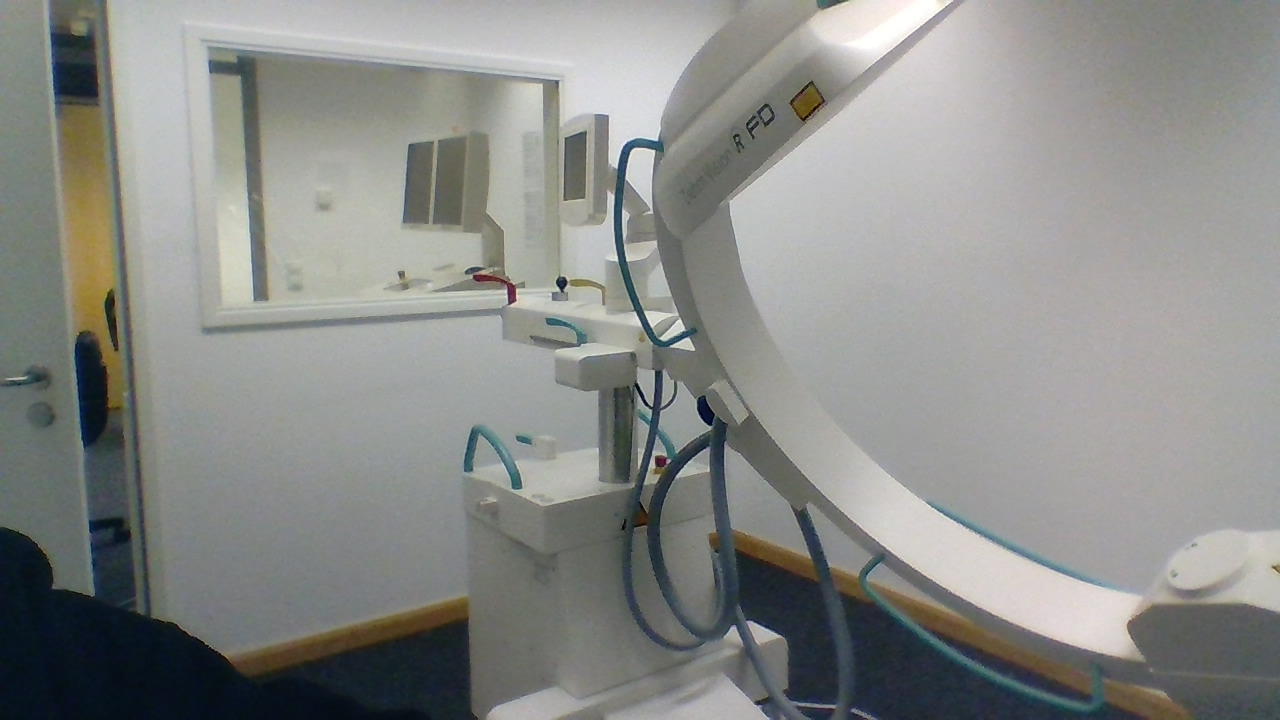carmBACK: (512, 431, 558, 462)
carmLOCK: (697, 391, 726, 425)
carmSCREEN: (553, 112, 610, 229)
